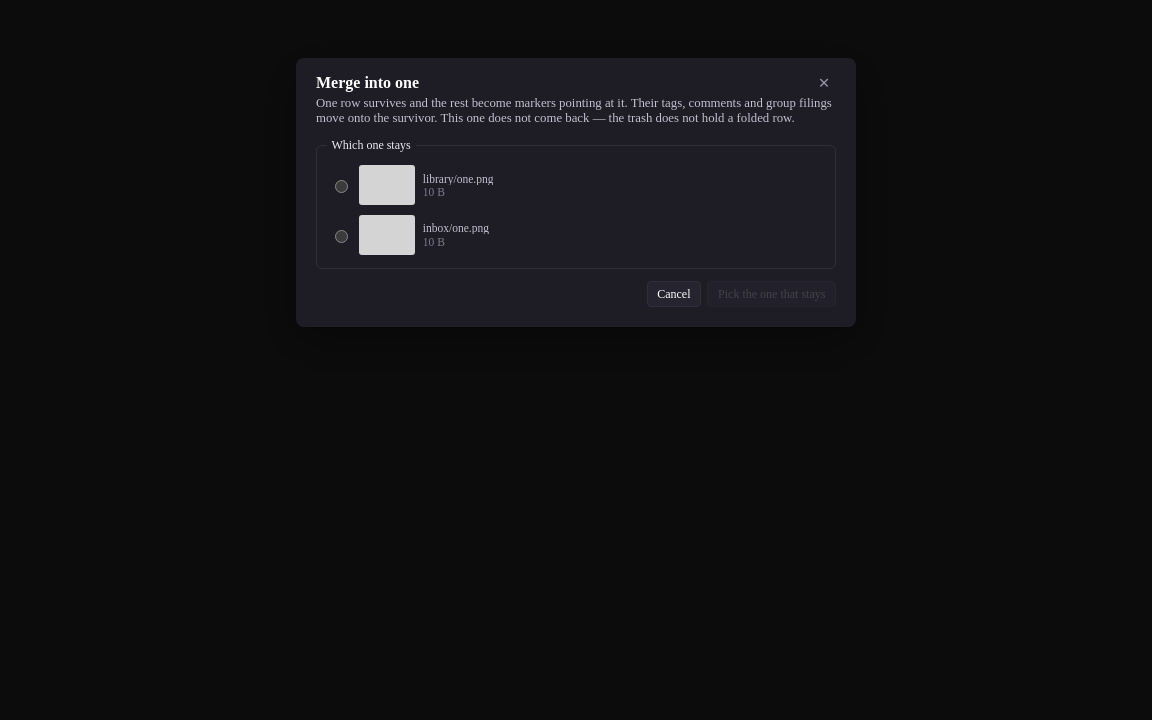
Test: MergeDialog — the way through › offers no confirm button before a preview, and one after
Check: the button "does not come back" is not shown
What coordinates should you click on to do the following:
click the radio button labelled "library/one.png 10 B"
I would click on:
 (341, 187)
Its box is 335,180 -> 348,193.
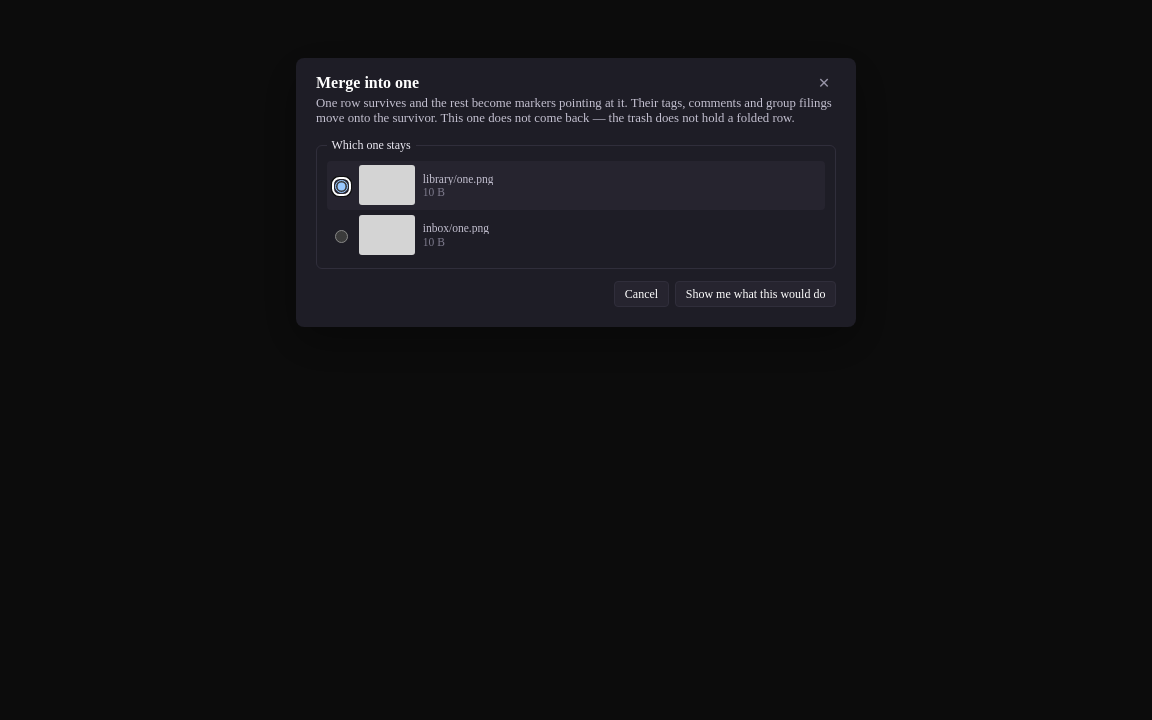
Check: the button "does not come back" is not shown
What coordinates should you click on to do the following:
click the button "Show me what this would do"
I would click on:
 (756, 294)
Its box is 675,281 -> 836,307.
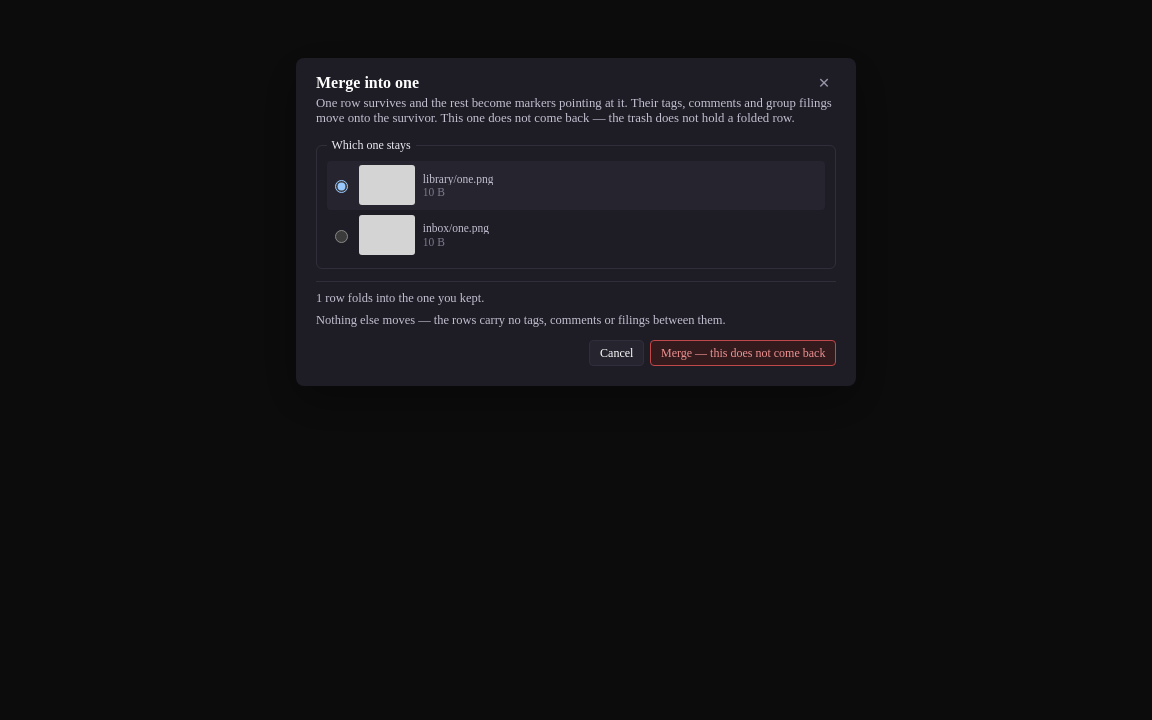
Check: the button "Merge — this does not come back" is shown, box 650,340 -> 836,366
